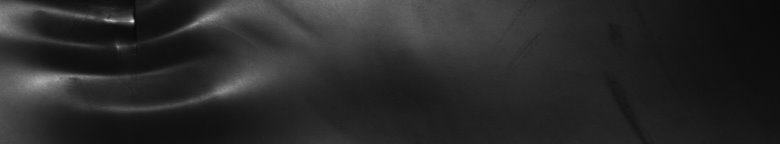ke: (4, 4, 243, 116)
